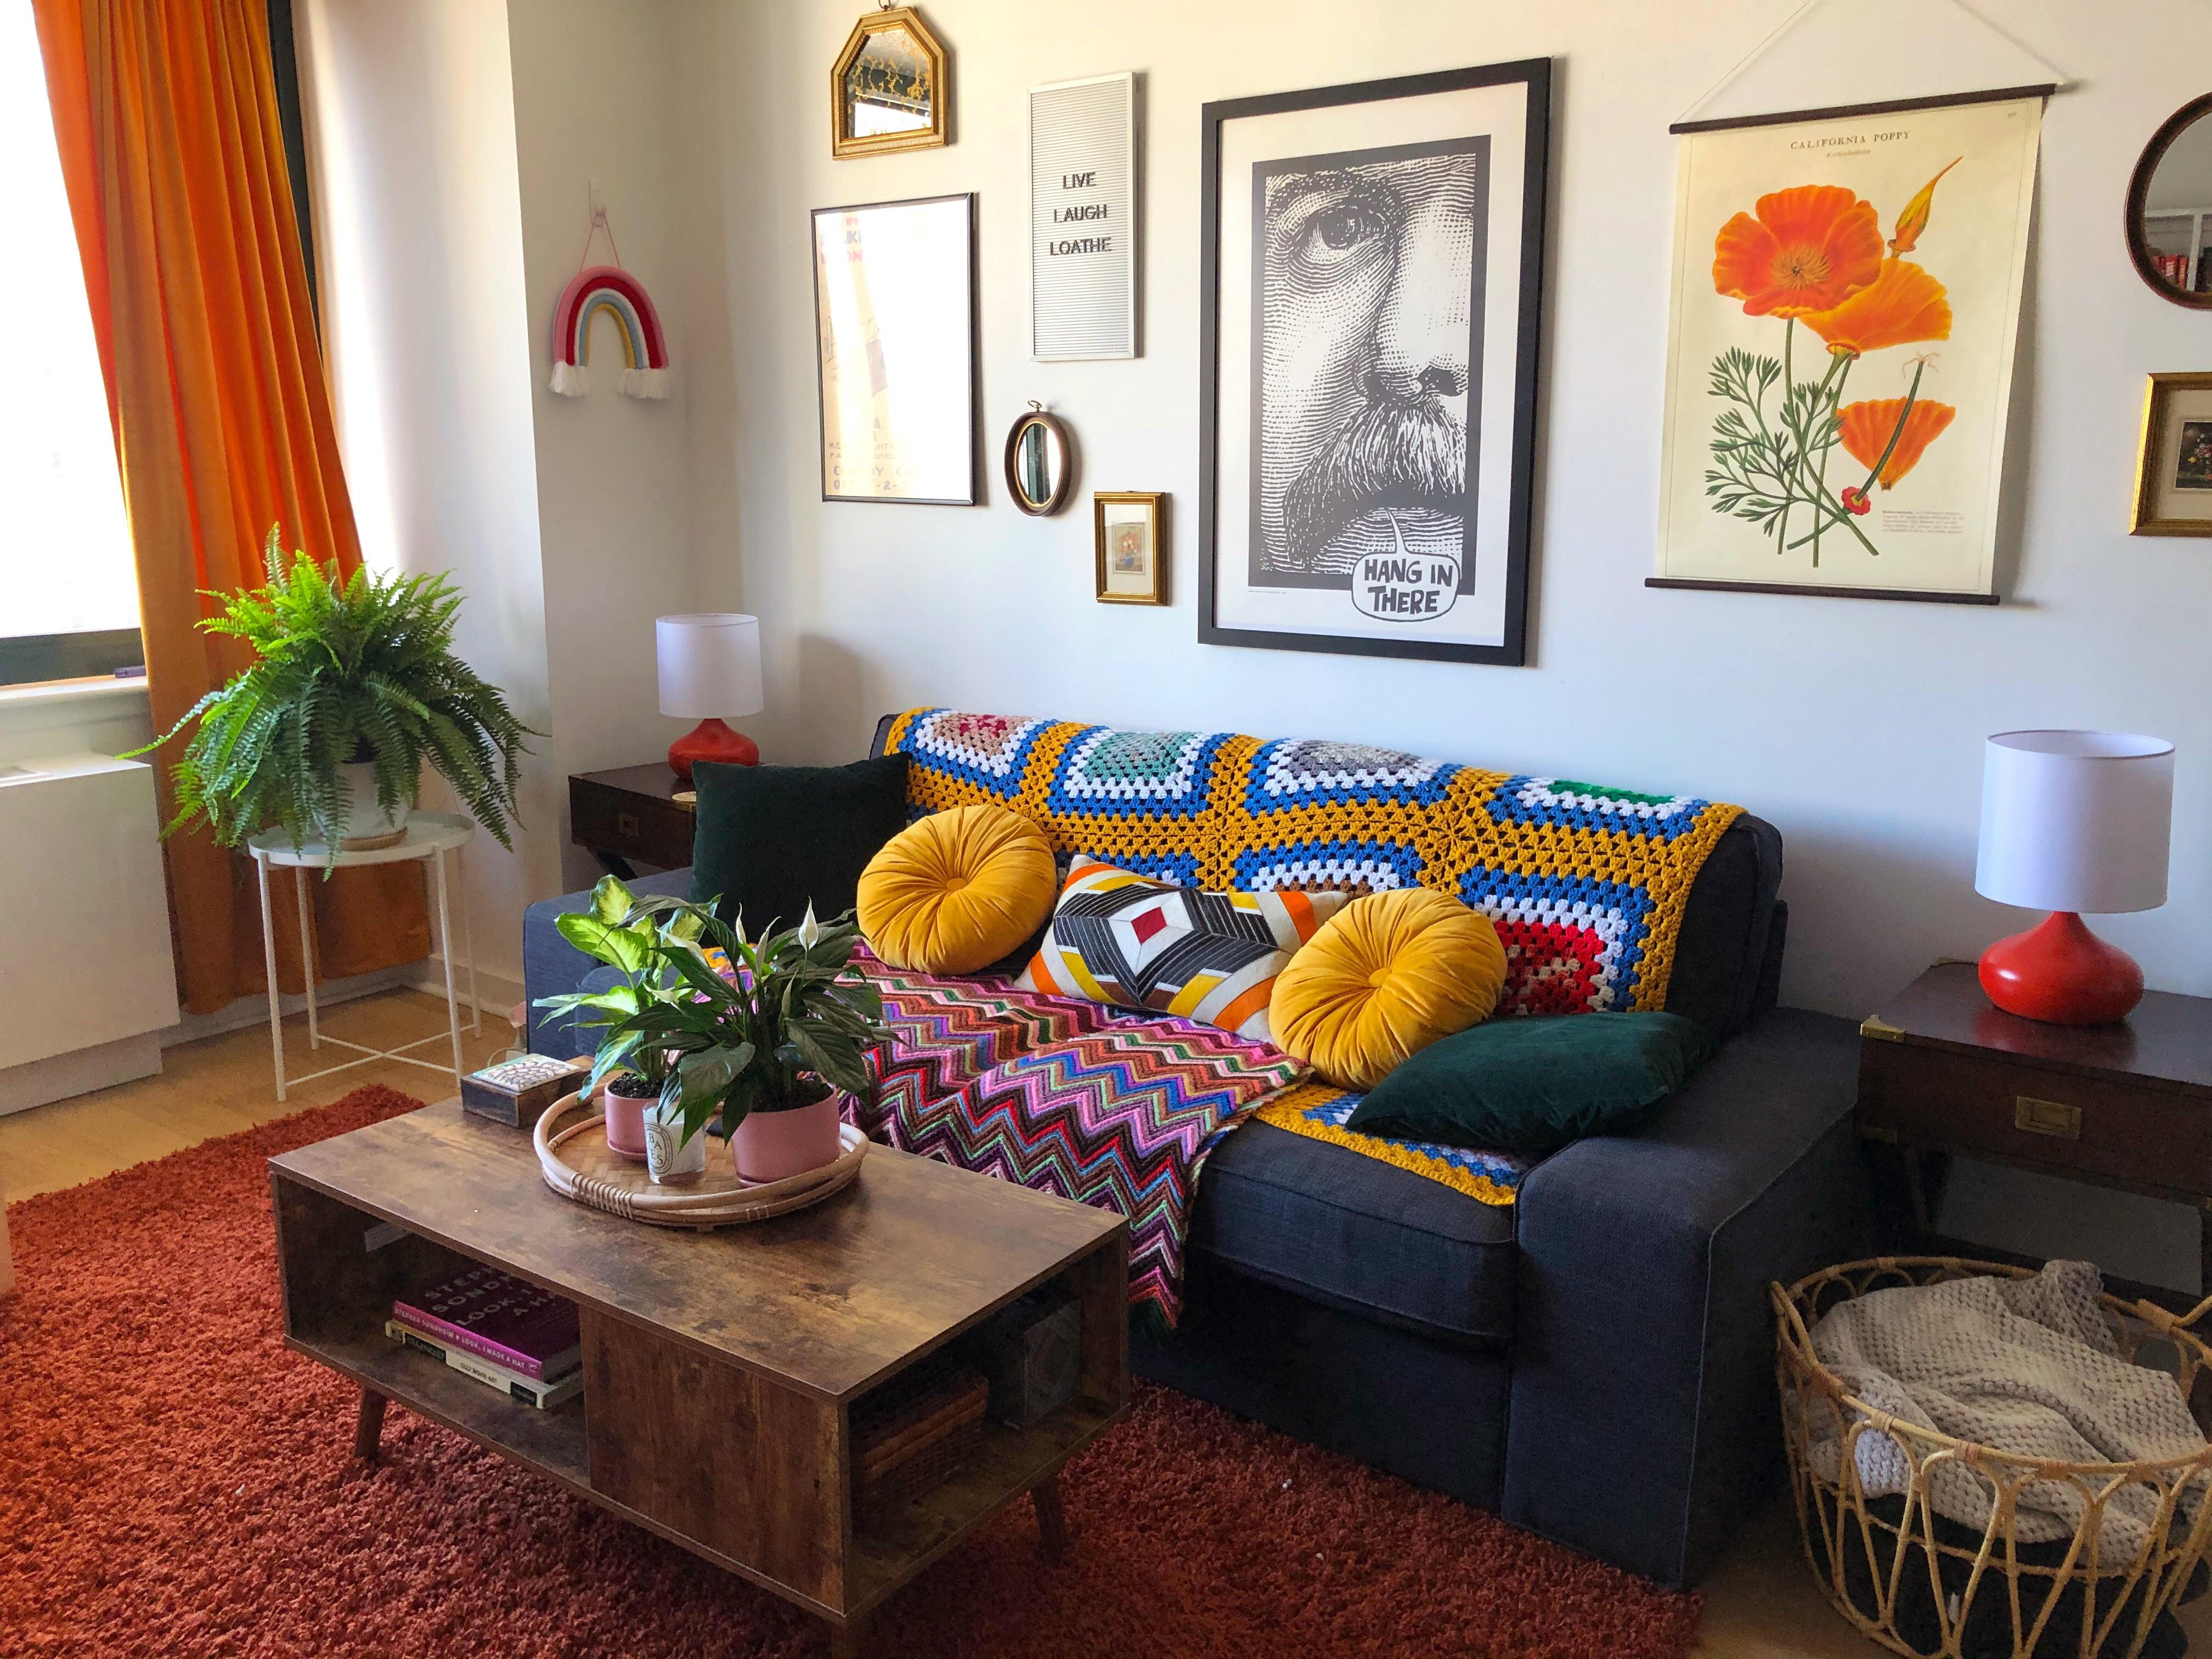coklat: (273, 1054, 1130, 1619)
hitam: (695, 763, 900, 920)
kuning: (1275, 873, 1482, 1087), (853, 796, 1050, 978)
merah: (1970, 910, 2158, 1030), (662, 723, 763, 762)
putih: (1975, 727, 2174, 915), (655, 613, 766, 718), (641, 1107, 709, 1192)
